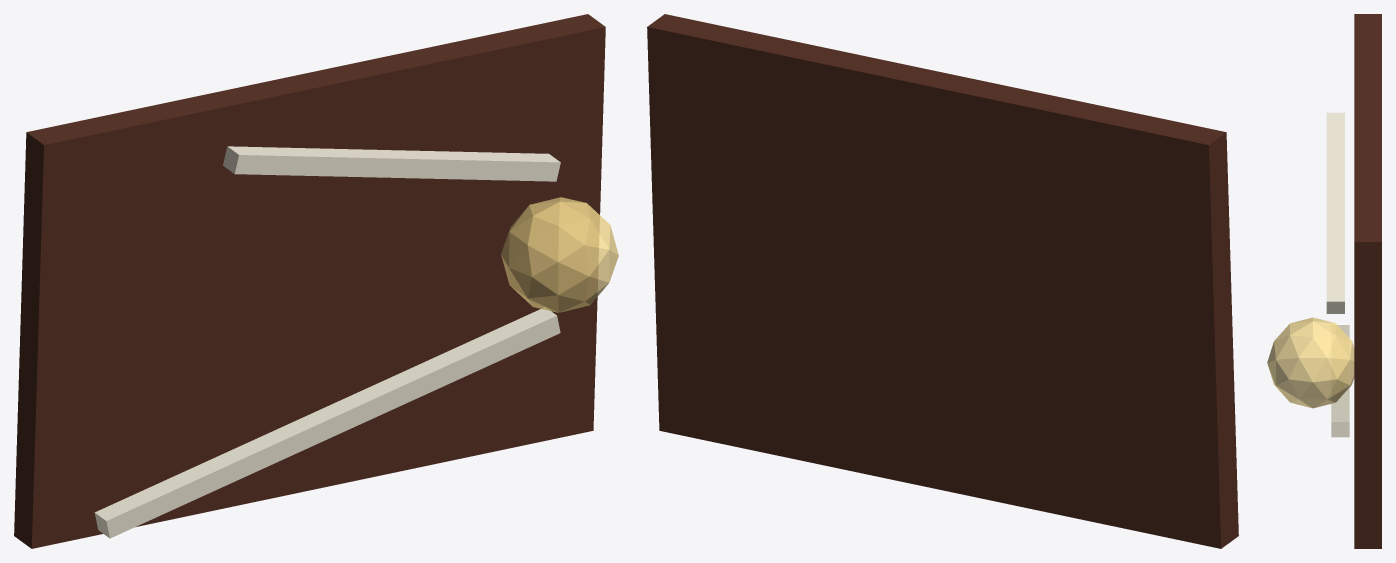
The model's file is 02_world_prop_polish.glb.
3 views of the same model, side by side, from view 1: azimuth 30°, elevation 25°; view 2: azimuth 150°, elevation 25°; view 3: azimuth 270°, elevation 25° (orthographic). The views are drawn at different scales.
Parts seen in each view (by area): view 1: object_overlay_plate, edge_wear_a, glow_socket, edge_wear_b; view 2: object_overlay_plate; view 3: object_overlay_plate, glow_socket, edge_wear_b, edge_wear_a.
Part boxes in pixels (x1,y1,x2,y2): object_overlay_plate: (14, 14, 605, 548); edge_wear_a: (94, 308, 560, 538); glow_socket: (501, 197, 618, 312); edge_wear_b: (223, 146, 560, 181); object_overlay_plate: (647, 14, 1238, 548); object_overlay_plate: (1354, 14, 1381, 548); glow_socket: (1267, 317, 1354, 408); edge_wear_b: (1326, 112, 1344, 313); edge_wear_a: (1331, 325, 1349, 437).
Bounding box in the file's own units: 1.12 × 0.7849 × 0.25.
